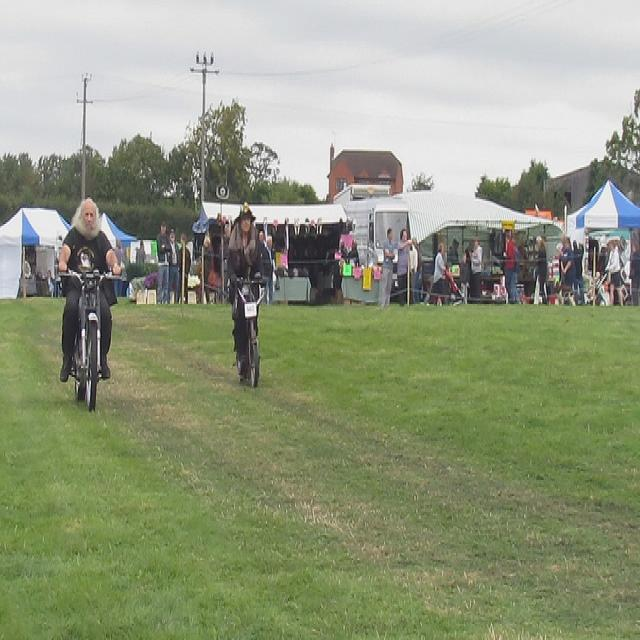motor: (59, 269, 124, 410), (231, 280, 272, 389)
